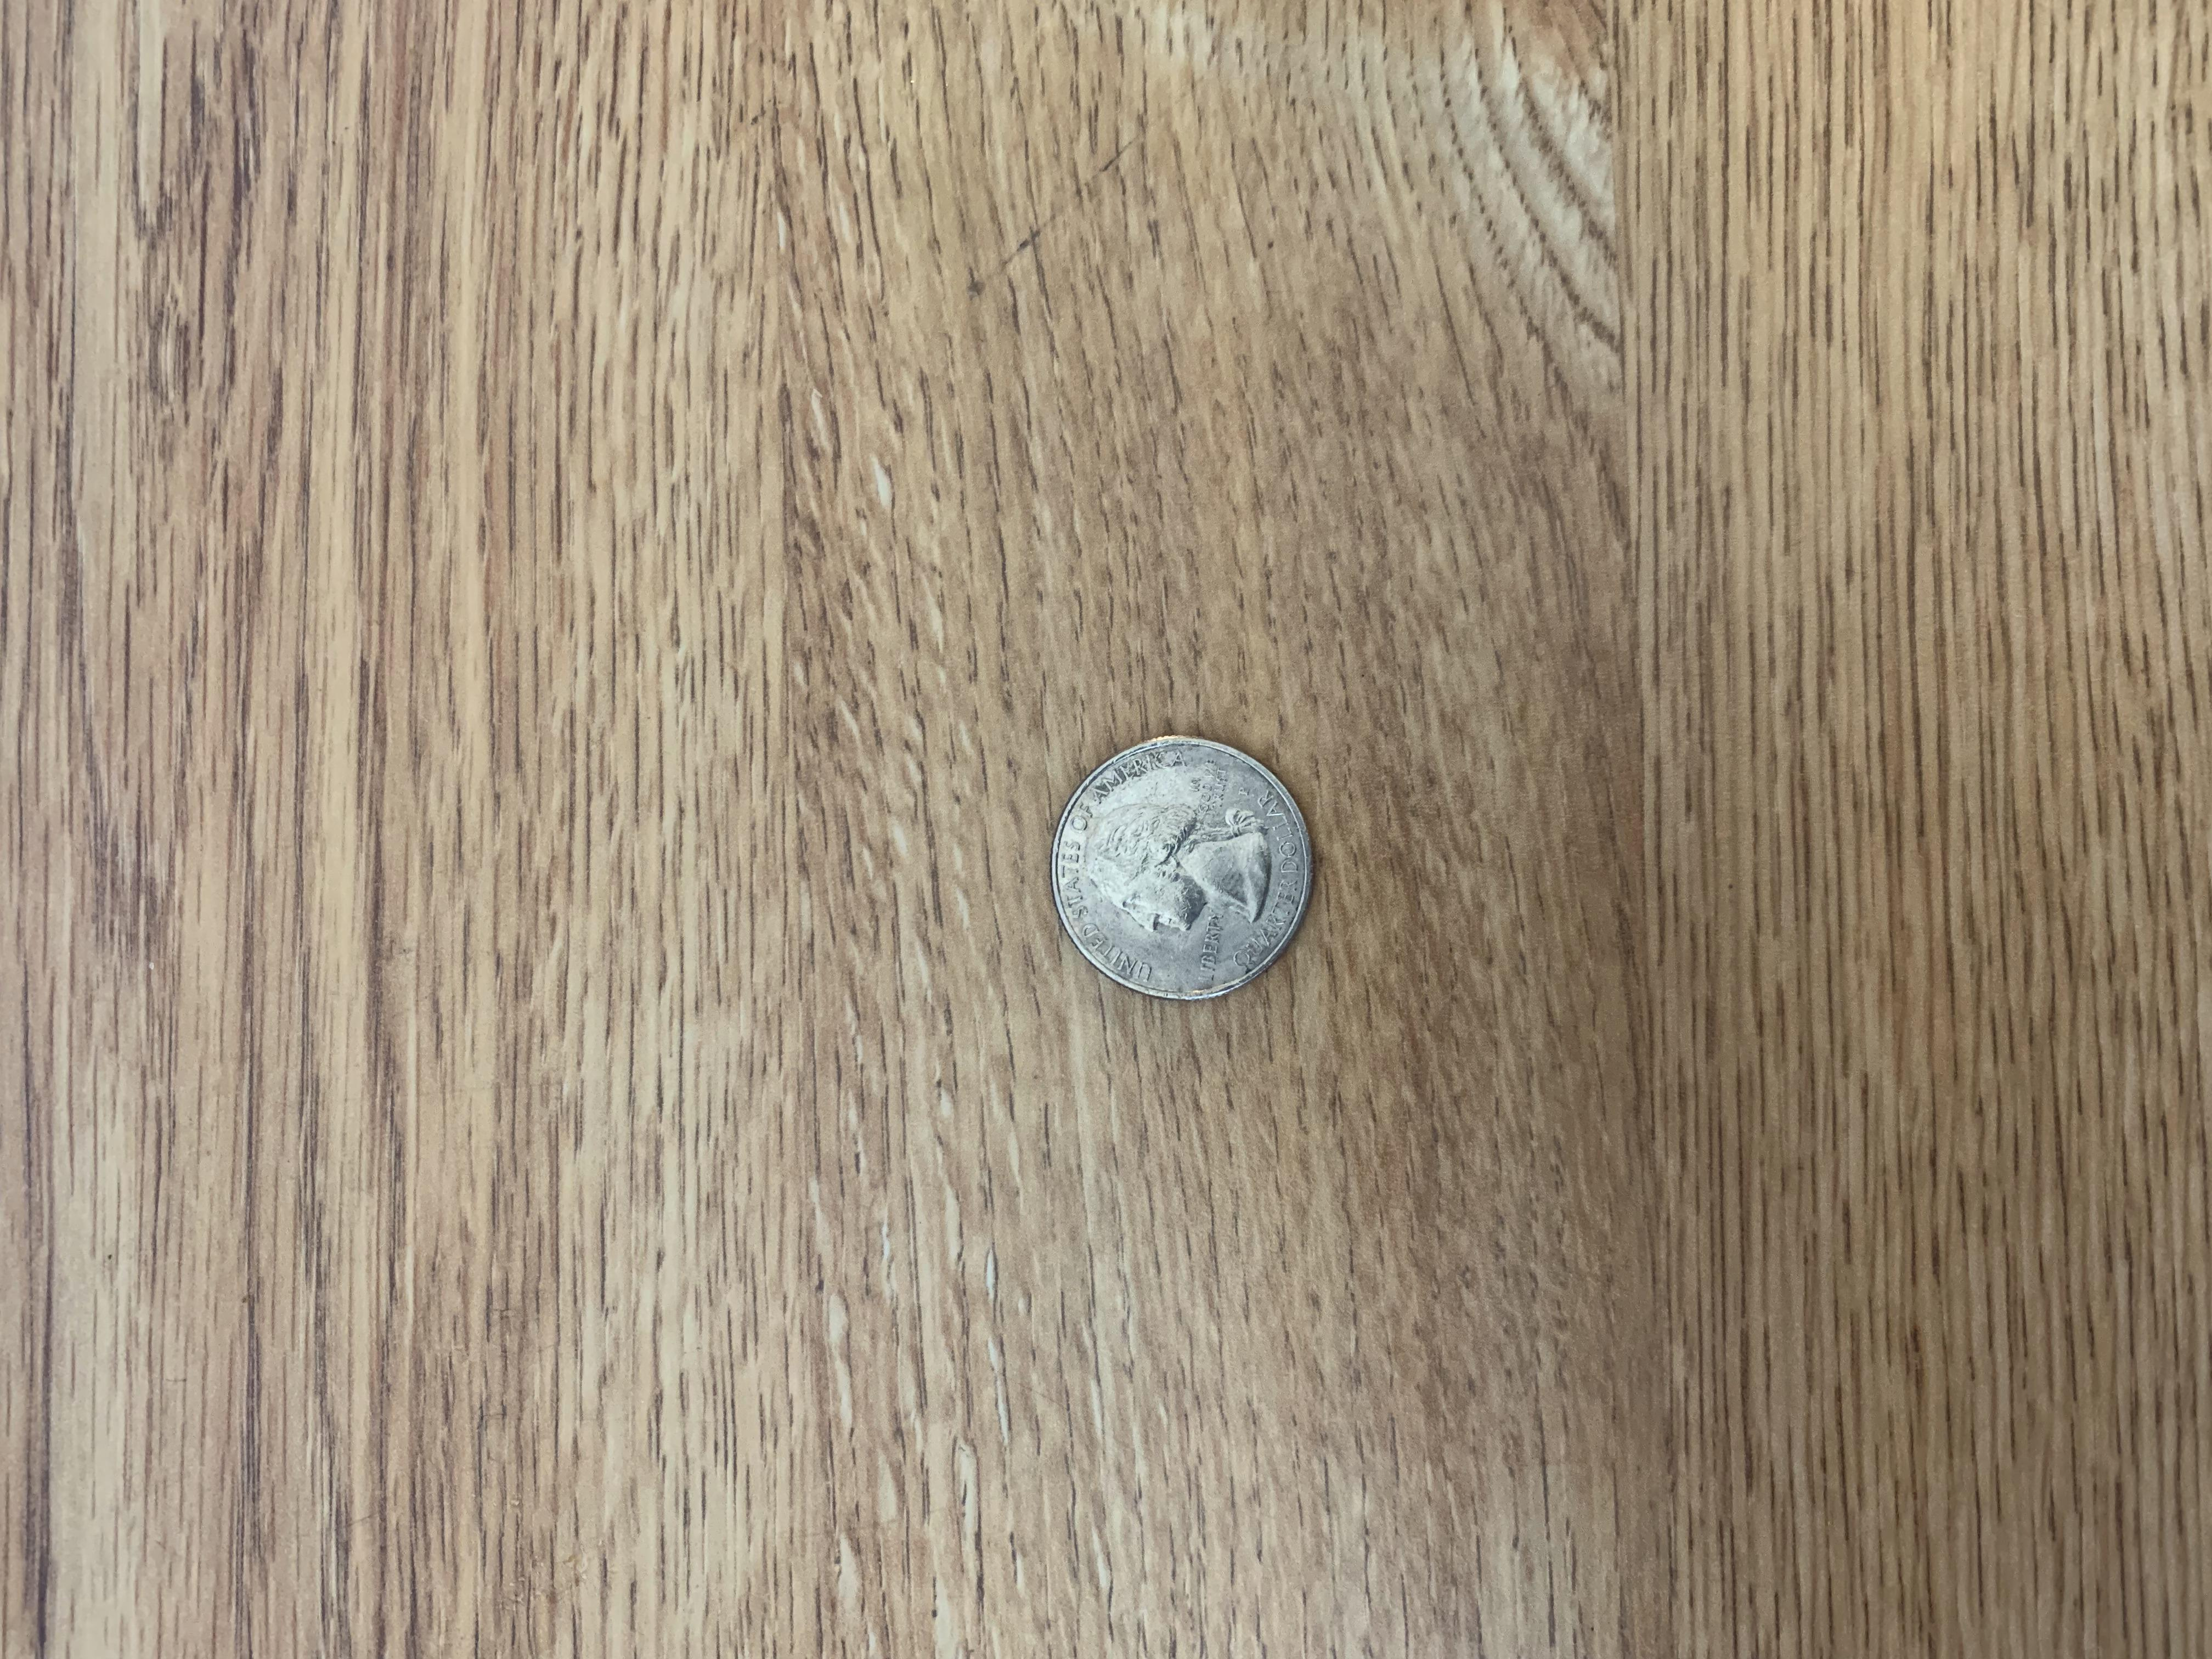Quarter: (1045, 727, 1324, 1009)
